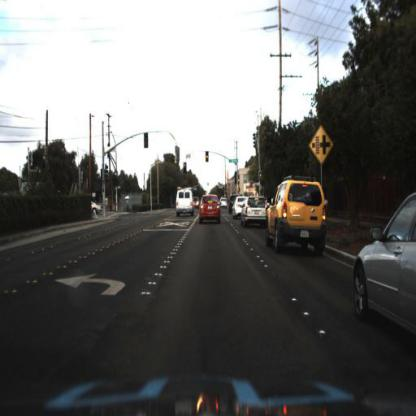car: (354, 192, 416, 345), (264, 178, 335, 258), (193, 188, 227, 227), (242, 190, 266, 230), (175, 188, 193, 218), (234, 194, 246, 223), (90, 200, 105, 216)
trafficLight: (204, 149, 210, 171), (182, 159, 189, 175)
